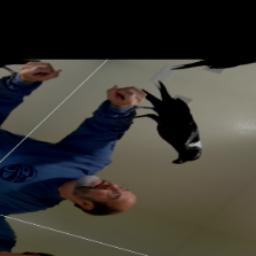Crow: (88, 77, 256, 170)
